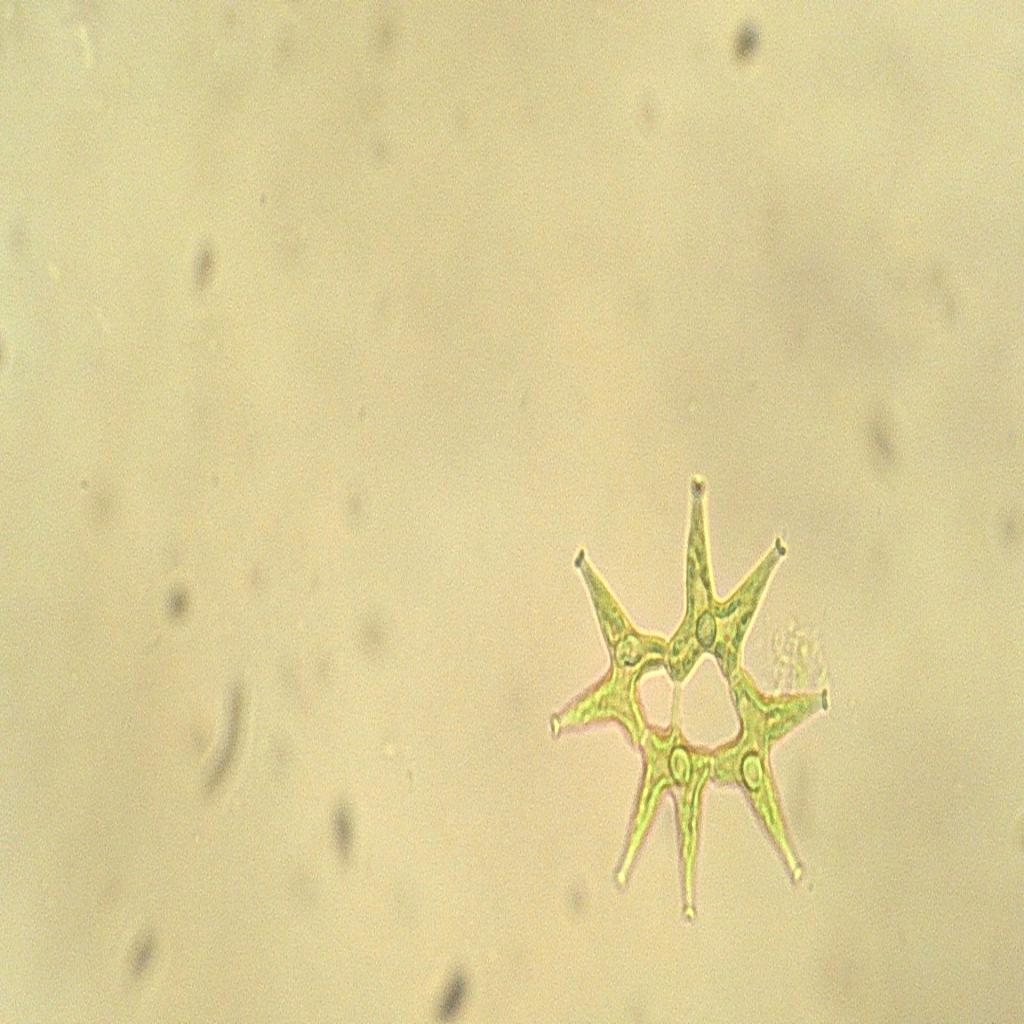Pediastrum_75FO: (544, 464, 846, 931)
